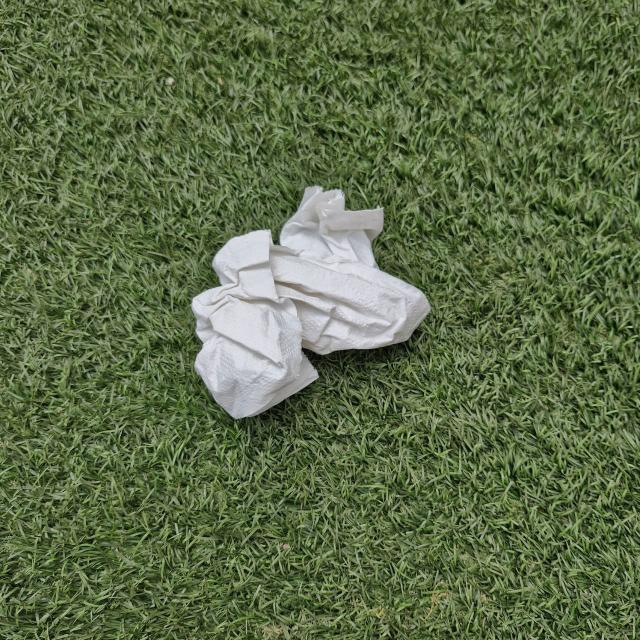paper: (192, 182, 430, 430)
